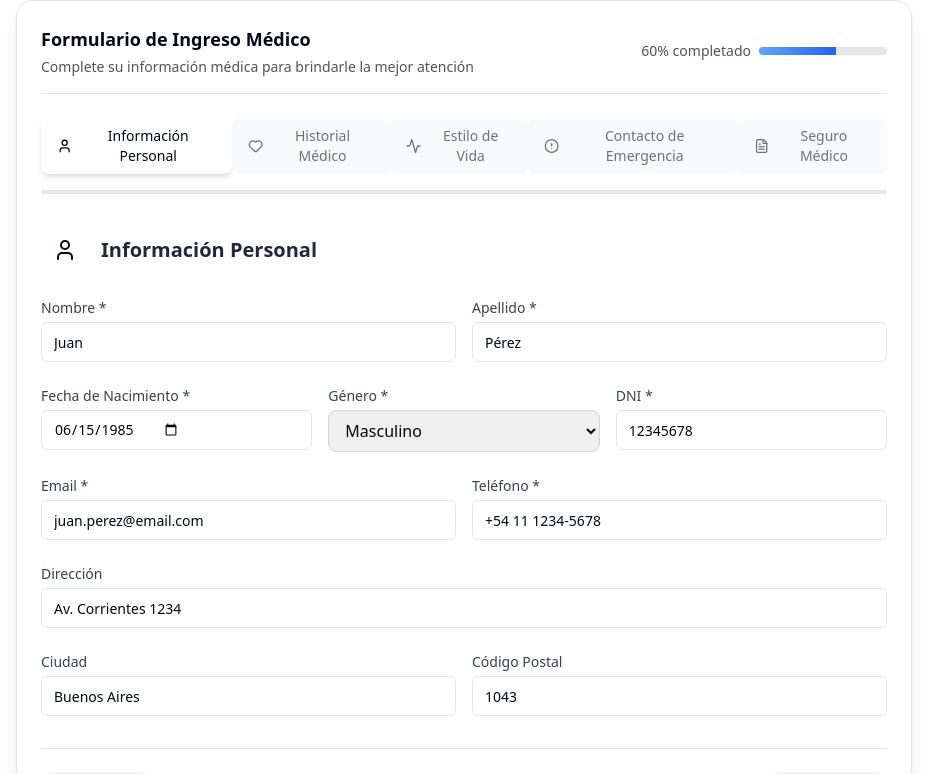
Test: 🏥 MedicalIntakeForm - Formulario Médico Crítico › ⚡ Auto-guardado (HIPAA Compliance) › debe mostrar indicador de último guardado
Note: Hacer un cambio y activar guardado
In the field showing "Juan" below "Nombre *": [248, 342] box 41,322 -> 456,362, type "Juan Carlos"
Wait 30000 ms
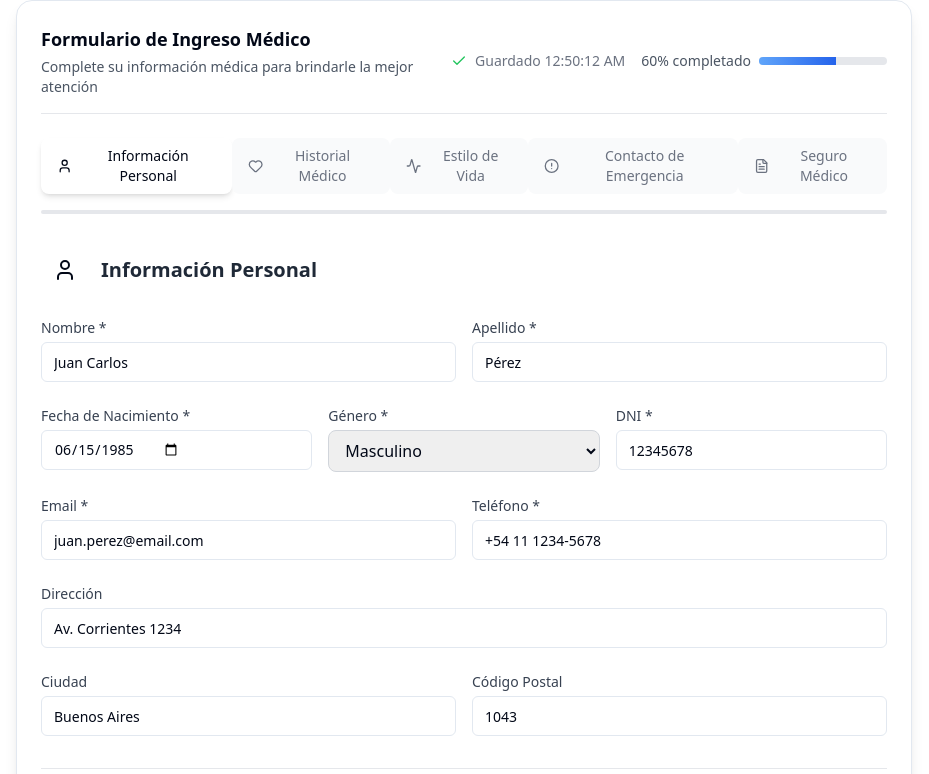
Expected: the text "Guardado 12:50:12 AM" is shown, 451,51 -> 625,71
